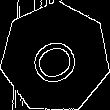O_NE: (24, 27, 87, 88)
